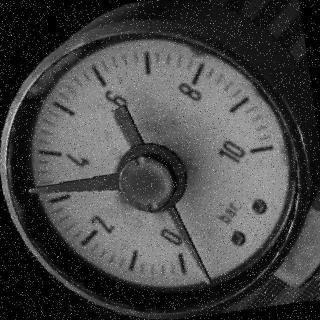gauge: (1, 0, 315, 316), (114, 150, 181, 214), (187, 251, 227, 291), (235, 134, 275, 169), (196, 270, 216, 290), (22, 182, 42, 200)
